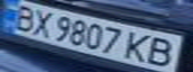0: (84, 20, 106, 52)
7: (100, 25, 127, 56)
8: (66, 17, 87, 47)
9: (48, 14, 75, 43)
B: (142, 35, 184, 69), (3, 2, 42, 33)
K: (124, 29, 157, 63)
X: (24, 8, 60, 38)
